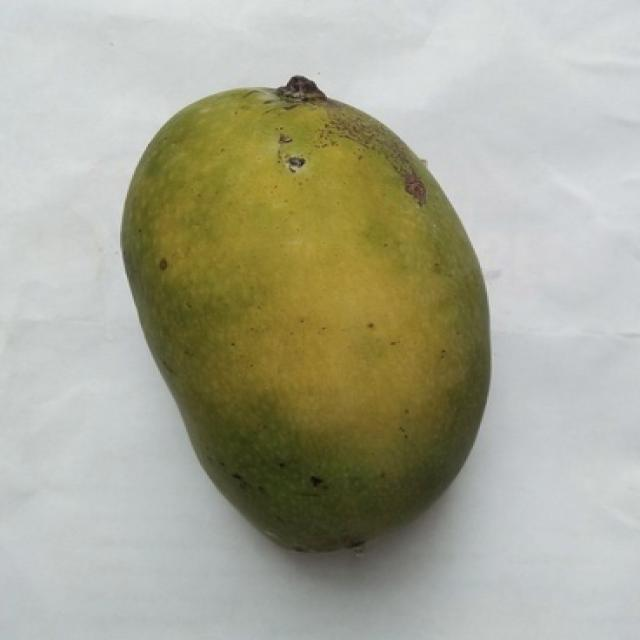Mango: (123, 77, 489, 550)
